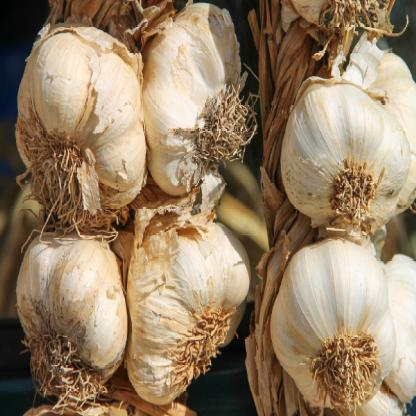garlic: (282, 38, 414, 224), (18, 24, 139, 220), (140, 211, 250, 404), (13, 236, 129, 415), (288, 237, 402, 415), (146, 22, 252, 181)
